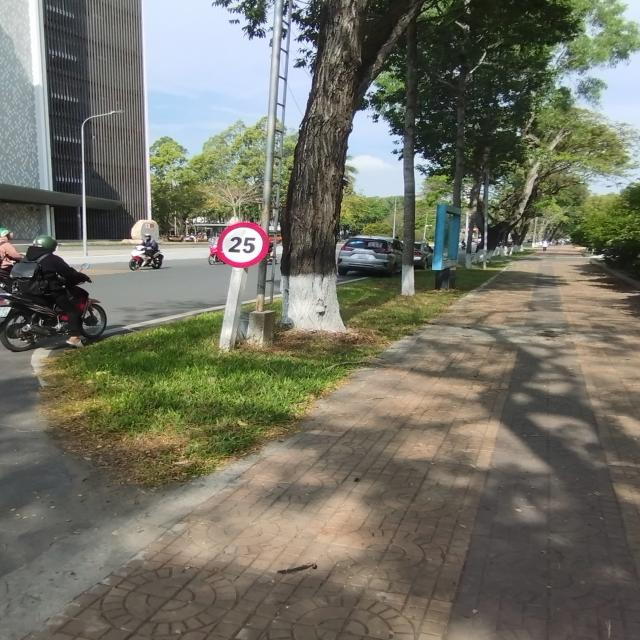Tre_Em: (216, 222, 268, 268)
